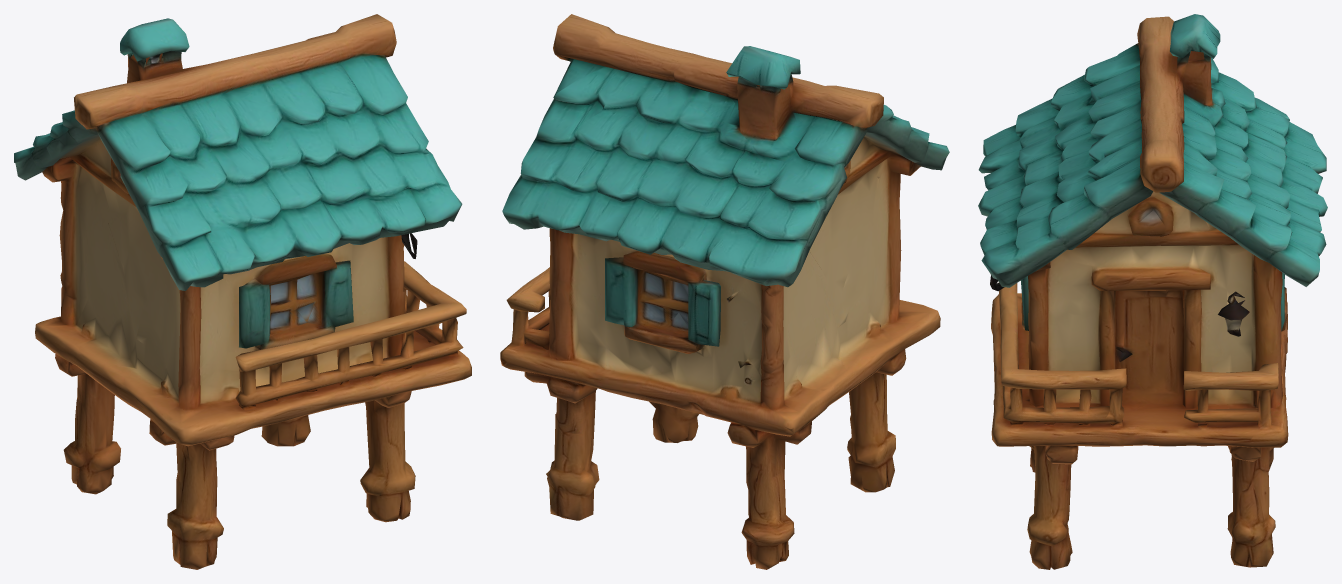
File: stilt-house.glb
The picture shows the model from 3 angles, left to right: view 1: azimuth 30°, elevation 25°; view 2: azimuth 150°, elevation 25°; view 3: azimuth 270°, elevation 25°; orthographic projection. The views are drawn at different scales.
Visible parts, largest first — view 1: tripo_node_70be3ea5-5fcd-4501-8914-f72d99386309; view 2: tripo_node_70be3ea5-5fcd-4501-8914-f72d99386309; view 3: tripo_node_70be3ea5-5fcd-4501-8914-f72d99386309.
Part boxes in pixels (x1,y1,x2,y2): tripo_node_70be3ea5-5fcd-4501-8914-f72d99386309: (14, 14, 471, 569); tripo_node_70be3ea5-5fcd-4501-8914-f72d99386309: (500, 14, 949, 569); tripo_node_70be3ea5-5fcd-4501-8914-f72d99386309: (978, 14, 1327, 569).
Bounding box in the file's own units: 4.08 × 6 × 4.1.
1 material, 1 textured.
